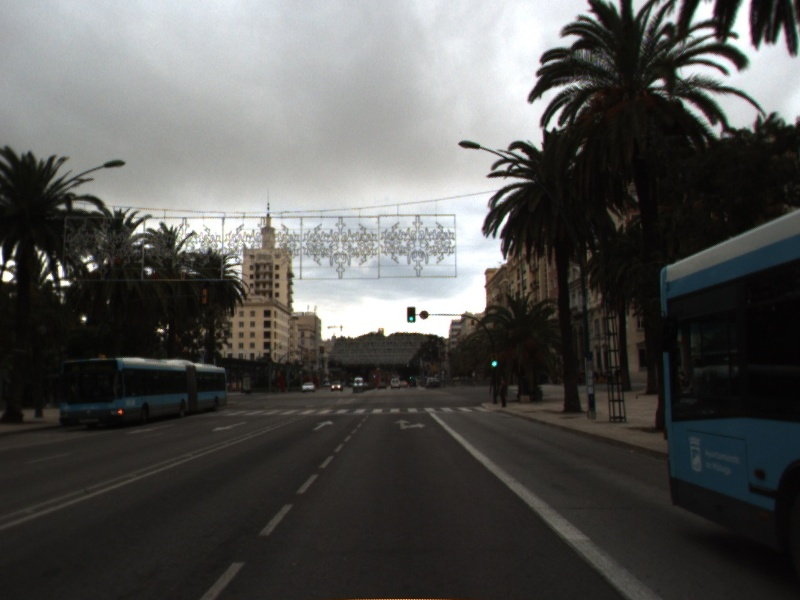STRAIGHT: (311, 419, 336, 432)
STRAIGHT_RIGHT: (392, 418, 427, 431)
